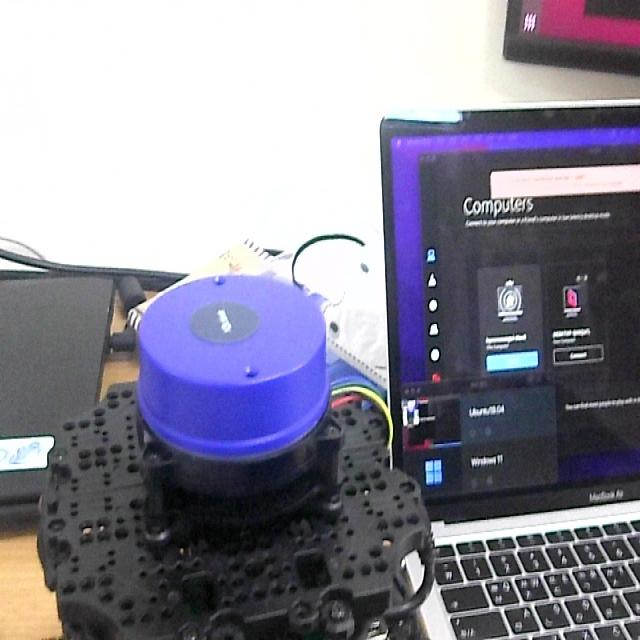turtle: (33, 268, 437, 640)
